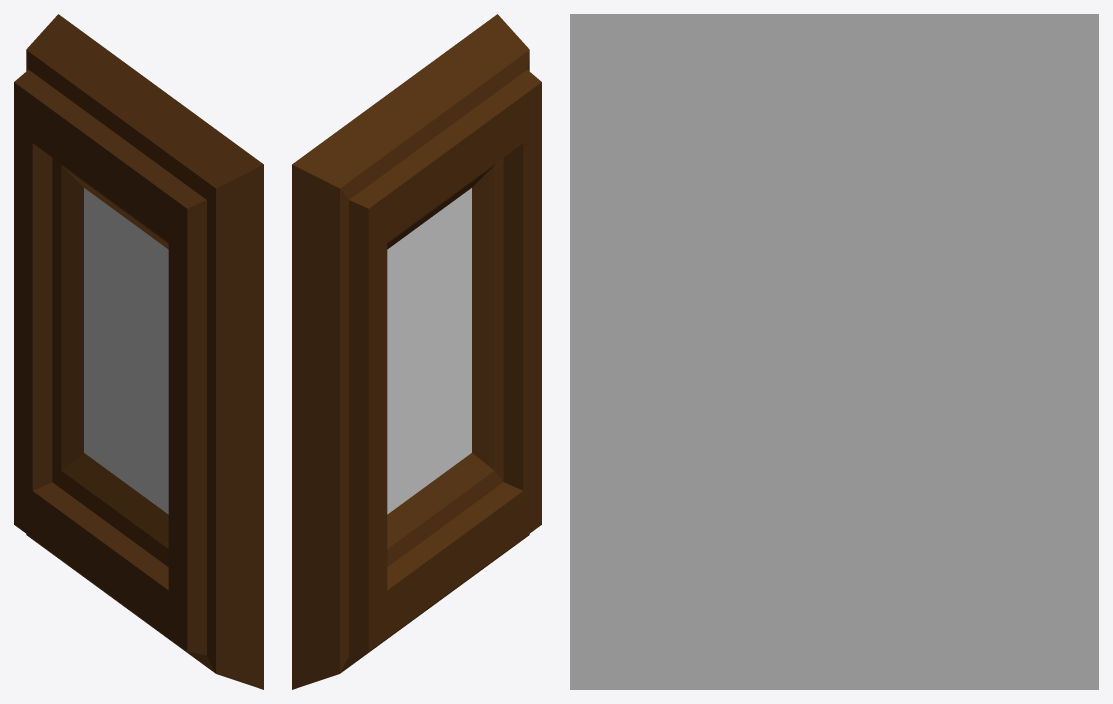
Rendered from portrait.fbx.
3 views of the same model, side by side, from view 1: azimuth 30°, elevation 25°; view 2: azimuth 150°, elevation 25°; view 3: azimuth 270°, elevation 25° (orthographic). The views are drawn at different scales.
Parts seen in each view (by area): view 1: Plane; view 2: Plane; view 3: Plane.
Part boxes in pixels (x1,y1,x2,y2): Plane: (14,14,263,689); Plane: (292,14,541,689); Plane: (570,14,1098,689).
Bounding box in the file's own units: 178 × 30.35 × 252.
